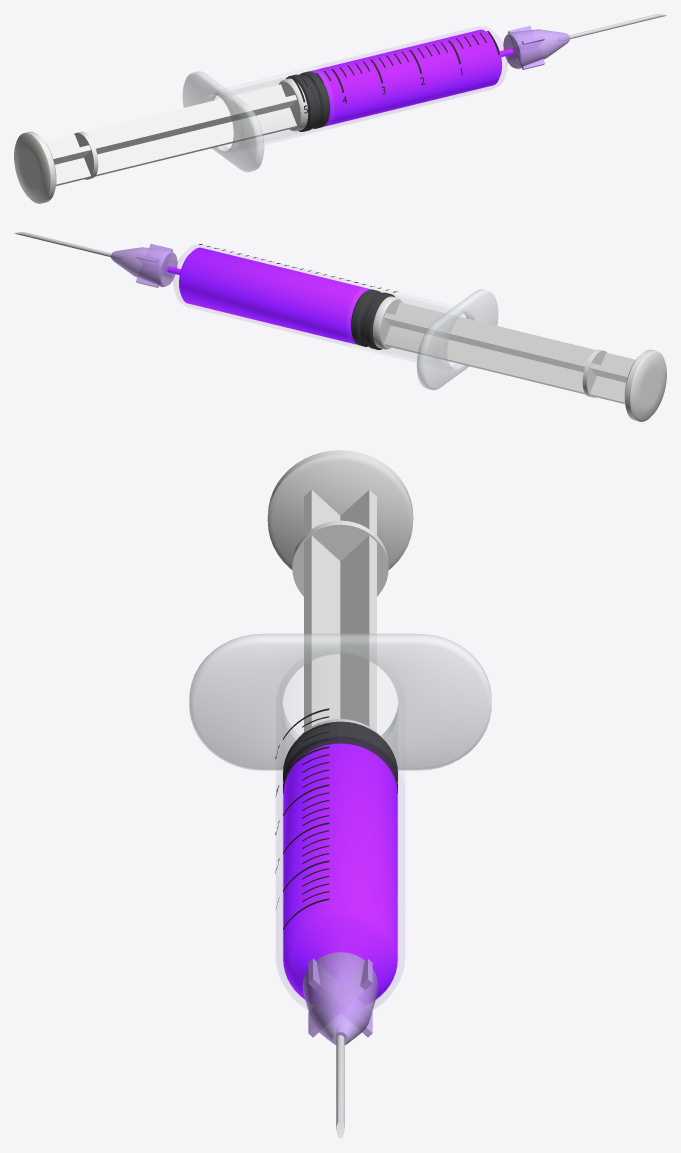
The model's file is seringa_magia.glb.
3 views of the same model, one above another, from view 1: azimuth 30°, elevation 25°; view 2: azimuth 150°, elevation 25°; view 3: azimuth 270°, elevation 25° (orthographic). The views are drawn at different scales.
Visible parts, largest first — view 1: seringa_magia; view 2: seringa_magia; view 3: seringa_magia.
Part boxes in pixels (x1,y1,x2,y2): seringa_magia: (14,14,666,203); seringa_magia: (14,232,666,421); seringa_magia: (189,450,491,1138).
Size of the model in its own units: 0.14 by 0.0139 by 0.0288.
